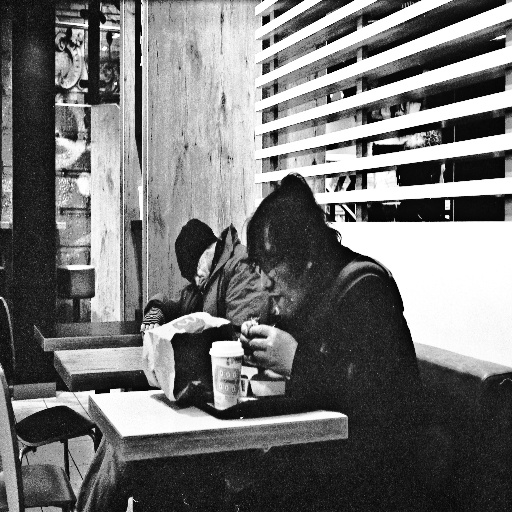hand: (238, 326, 291, 377), (239, 319, 260, 366), (140, 323, 159, 340)
